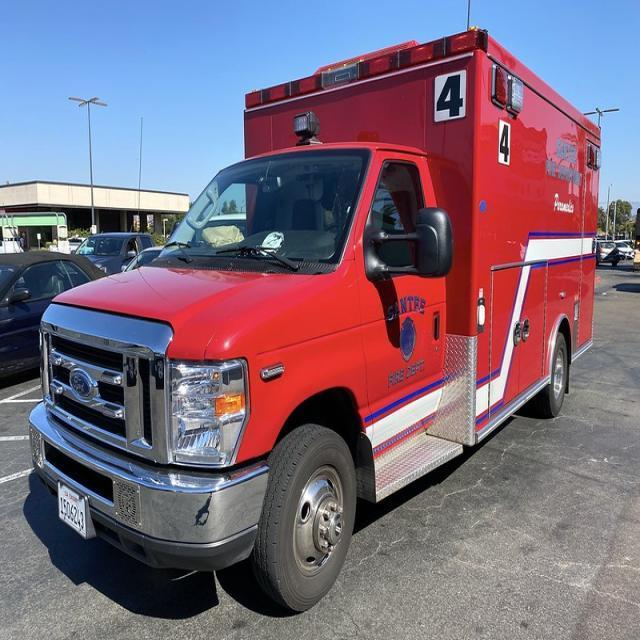emergency: (31, 37, 485, 616)
